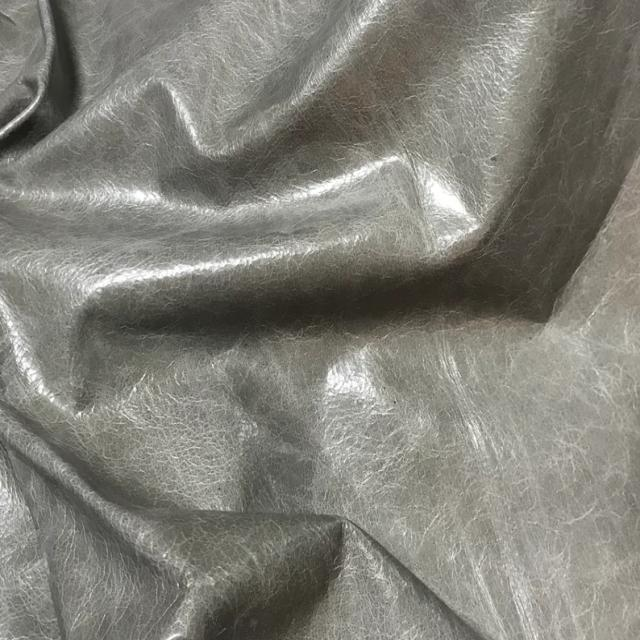Crease: (126, 59, 361, 205), (330, 351, 537, 499), (32, 235, 186, 402)
